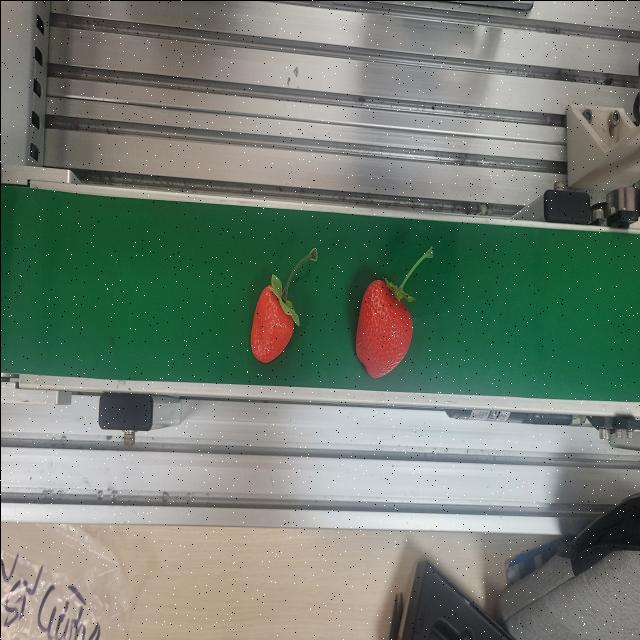Large Ripe Strawberry: (349, 270, 422, 380)
Small Ripe Strawberry: (247, 278, 295, 368)
